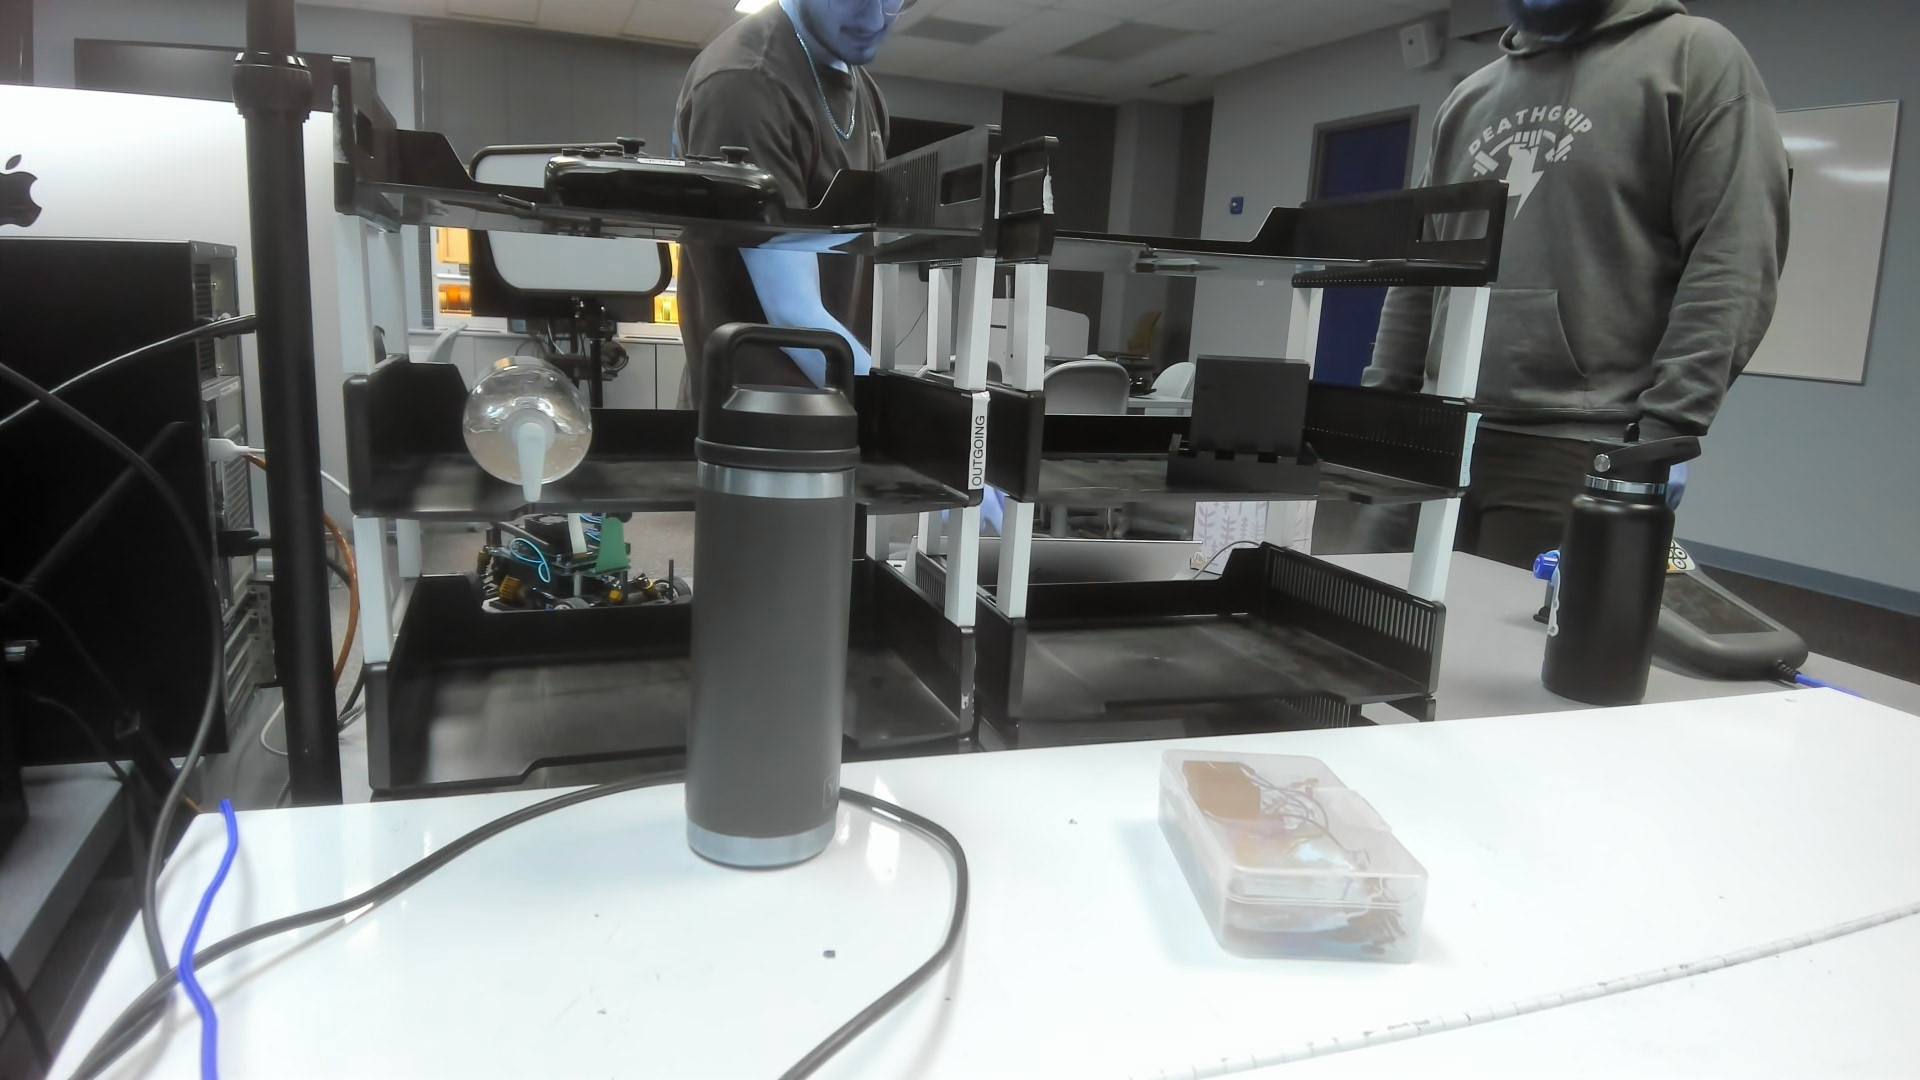black pallet: (1164, 348, 1331, 504)
